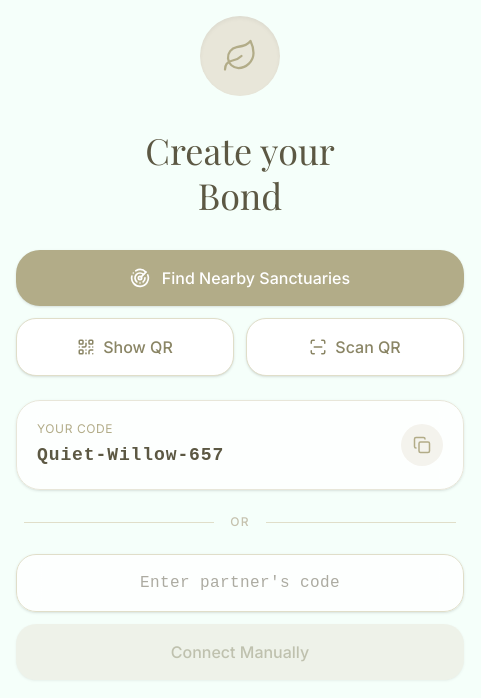
Test: BondScreen › should enable Connect Sanctuary button when partner code is entered
The image size is (481, 698).
Type "Calm-Meadow-408" into the field with placeholder "Enter partner's code" at (240, 583), box x1=16 y1=554 x2=464 y2=612
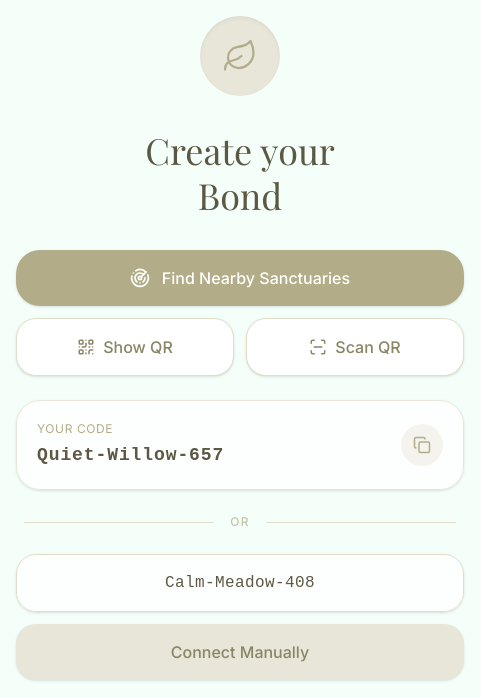
Expected: the button "Connect Manually" is enabled, x1=16 y1=624 x2=464 y2=680
